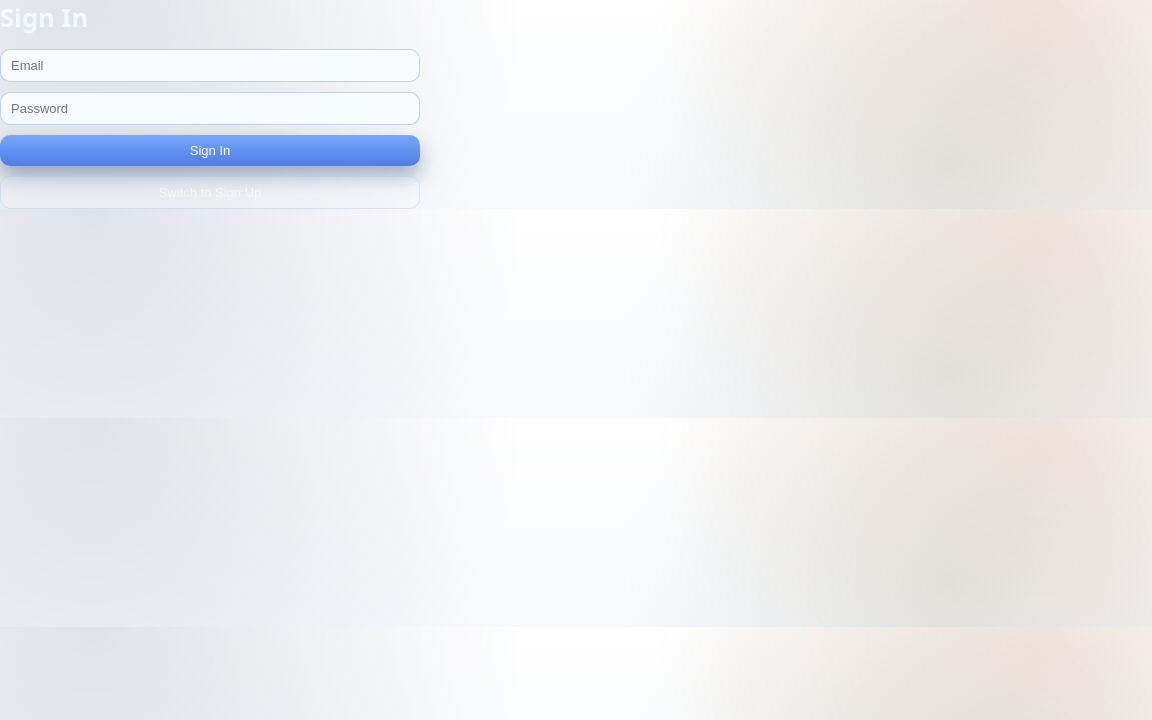
Test: AuthPanel – login mode › switches to register mode when toggle button clicked
Click the button "Switch to Sign Up": (210, 192) [0,176,420,209]
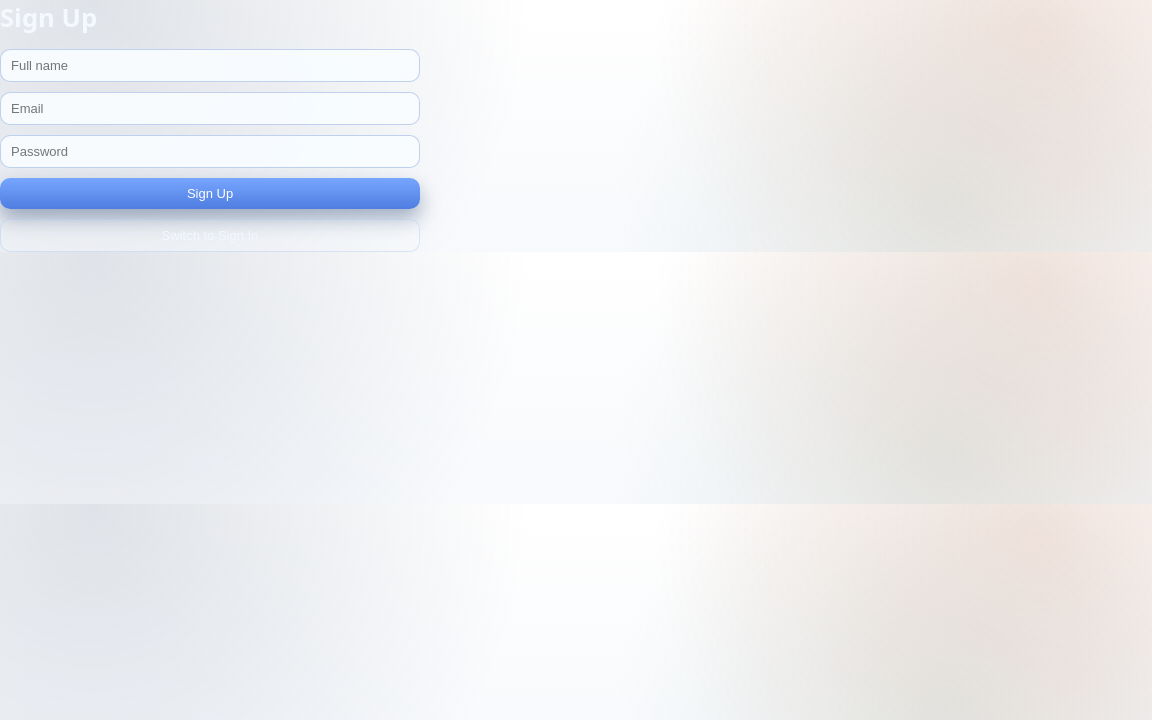
Expected: the field with placeholder "Full name" is shown, [0,49,420,82]
Expected: the button "Sign Up" is shown, [0,178,420,209]
